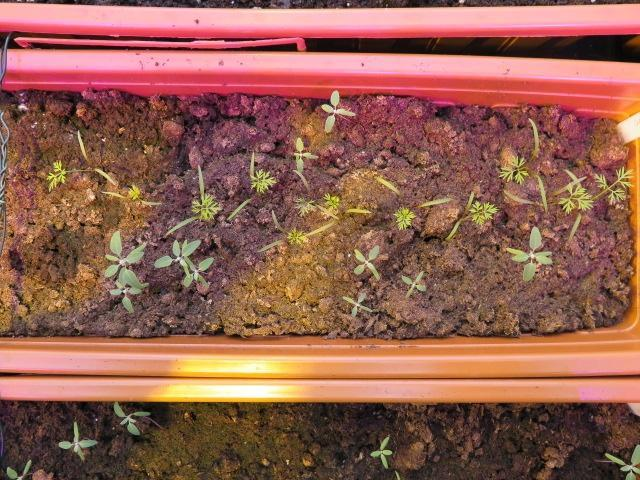weed: (502, 221, 553, 284), (53, 415, 100, 461), (317, 83, 356, 137), (111, 396, 153, 434), (351, 238, 380, 281), (338, 287, 373, 320), (366, 430, 393, 470), (397, 267, 426, 300)
